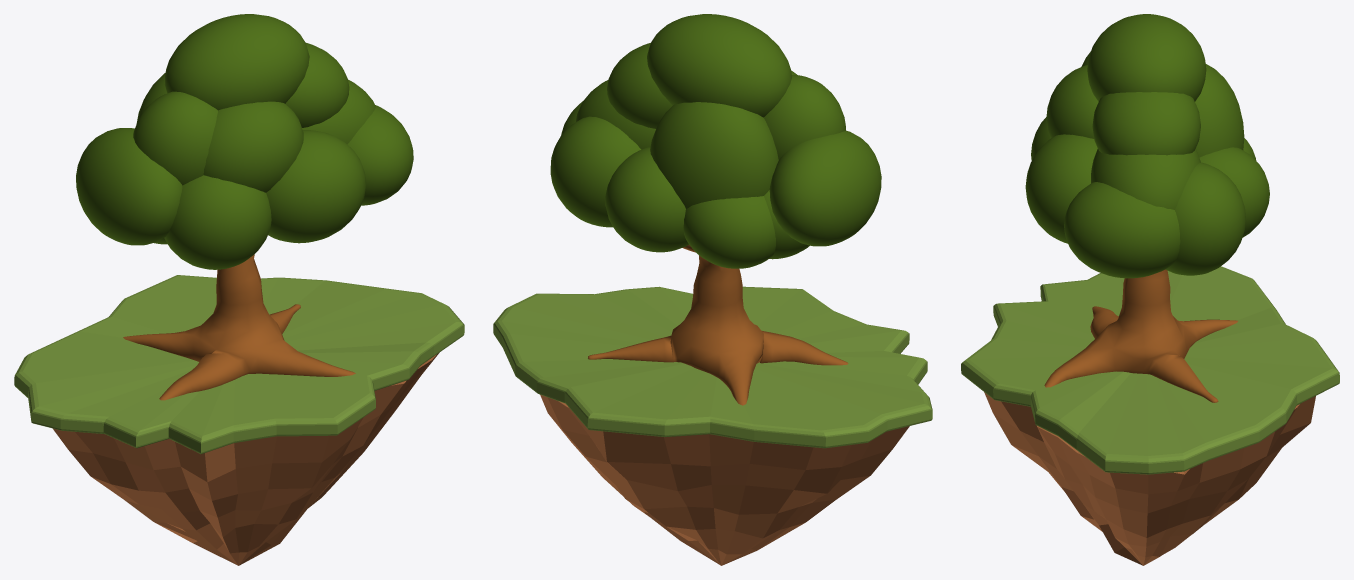
The model's file is island_summer.glb.
The picture shows the model from 3 angles, left to right: view 1: azimuth 30°, elevation 25°; view 2: azimuth 150°, elevation 25°; view 3: azimuth 270°, elevation 25°; orthographic projection.
Parts seen in each view (by area): view 1: Grass, Rock, trunk, top.004, top.003, top.008, top.007, top, top.002, top.005, top.006, top.001; view 2: Grass, Rock, top.004, trunk, top.010, top.003, top.009, top.012, top.011, top.002, top.006, top.001 (+1 smaller); view 3: Grass, Rock, trunk, top.005, top.004, top.006, top.009, top.008, top.001, top.010, top, top.012.
Boxes of the visible parts, x1,y1,x2,y2 form: Grass: (14, 275, 464, 454); Rock: (52, 352, 439, 565); trunk: (123, 254, 355, 400); top.004: (164, 14, 309, 110); top.003: (76, 128, 182, 245); top.008: (266, 130, 365, 243); top.007: (164, 175, 271, 269); top: (203, 101, 303, 192); top.002: (133, 91, 217, 185); top.005: (347, 105, 413, 205); top.006: (285, 43, 349, 127); top.001: (302, 79, 375, 144); Grass: (493, 286, 932, 448); Rock: (540, 394, 909, 565); top.004: (647, 14, 791, 117); trunk: (588, 245, 848, 405); top.010: (650, 102, 778, 208); top.003: (769, 130, 881, 246); top.009: (550, 116, 641, 227); top.012: (605, 147, 688, 252); top.011: (683, 196, 775, 268); top.002: (763, 75, 845, 159); top.006: (607, 43, 672, 128); top.001: (576, 80, 655, 149); Grass: (961, 266, 1339, 474); Rock: (984, 392, 1315, 565); trunk: (1044, 269, 1237, 402); top.005: (1064, 182, 1180, 278); top.004: (1087, 14, 1206, 101); top.006: (1092, 92, 1200, 155); top.009: (1165, 162, 1245, 275); top.008: (1025, 134, 1097, 243); top.001: (1091, 149, 1200, 209); top.010: (1195, 64, 1244, 157); top: (1046, 65, 1098, 138); top.012: (1199, 147, 1269, 237).
Bounding box in the file's own units: 4.82 × 5.93 × 3.74.
